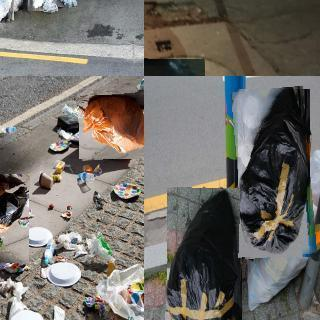Garbage: (234, 88, 314, 258), (165, 187, 243, 320), (77, 93, 144, 160), (0, 173, 29, 262), (0, 0, 15, 23), (27, 0, 47, 11), (42, 0, 59, 11)
